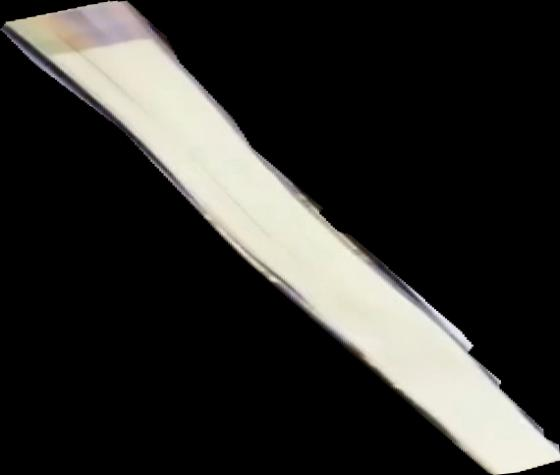backward: (1, 1, 560, 475)
